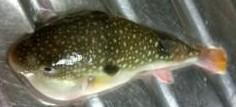fish: (7, 11, 226, 100)
